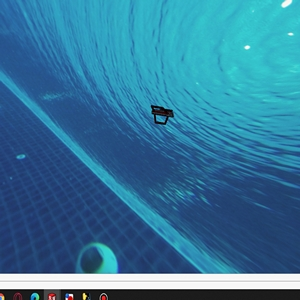submarine: (148, 102, 174, 127)
